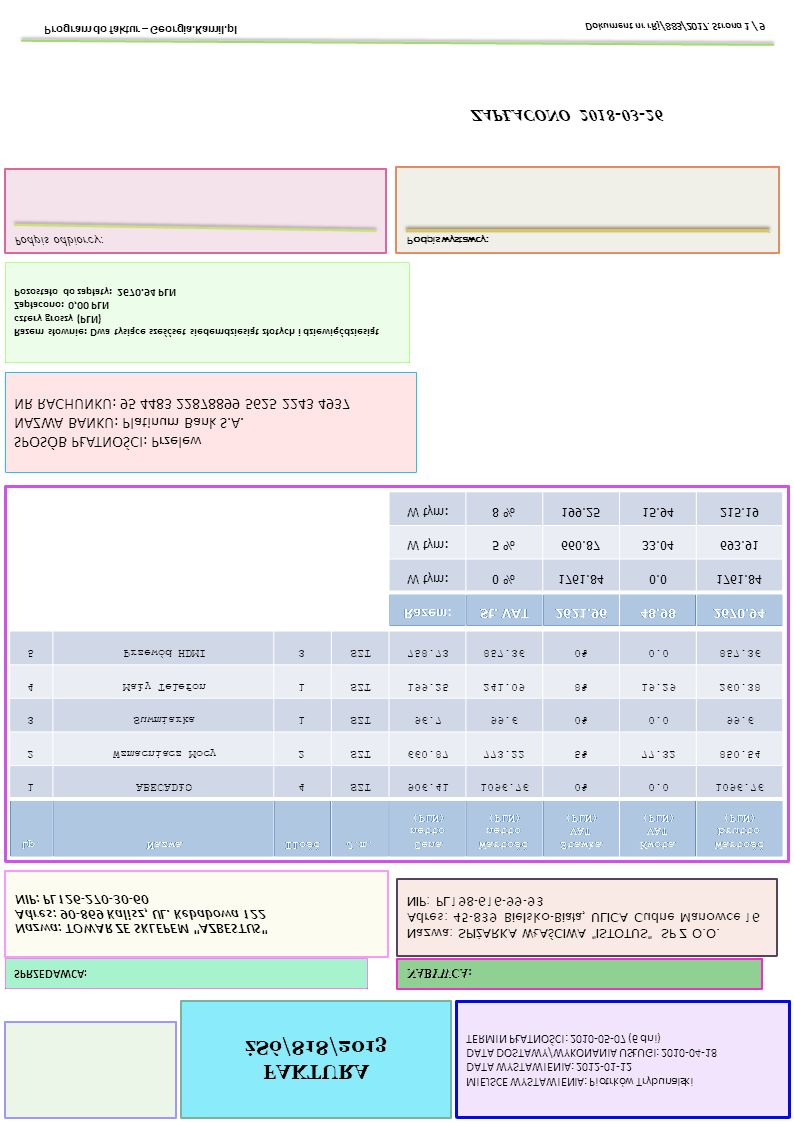Table: (8, 630, 784, 858), (387, 492, 783, 627)
TextBox: (12, 394, 353, 454), (11, 286, 381, 339), (403, 893, 762, 941), (463, 1030, 719, 1092), (12, 892, 268, 936), (241, 1034, 390, 1083), (466, 106, 666, 126), (42, 22, 239, 39), (583, 17, 767, 34), (11, 231, 106, 249), (404, 232, 489, 247), (10, 966, 89, 982), (404, 965, 473, 981)
